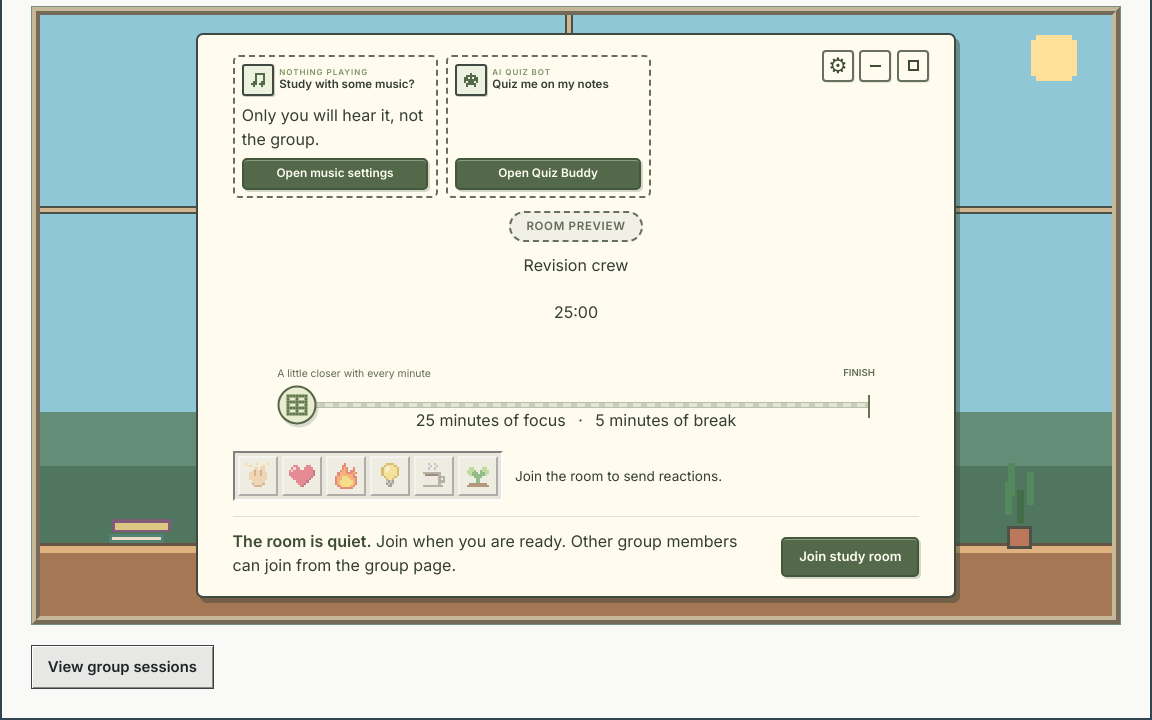
Test: private room screen › ordinary members cannot control the timer and leaving affects only this tab
(page scrolled)
Click the button "Join study room" at (850, 557), box 781,537 -> 920,577
(page scrolled)
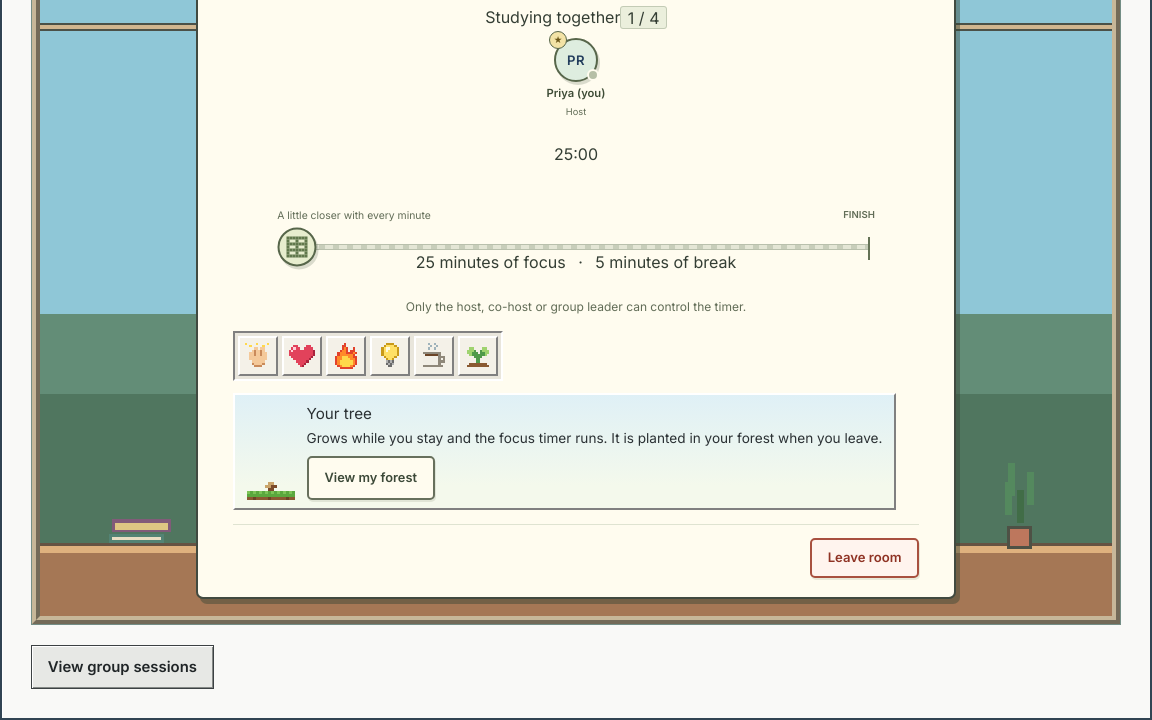
Expected: the button "Leave room" is shown
Click the button "Leave room" at (865, 558), box 810,538 -> 920,578
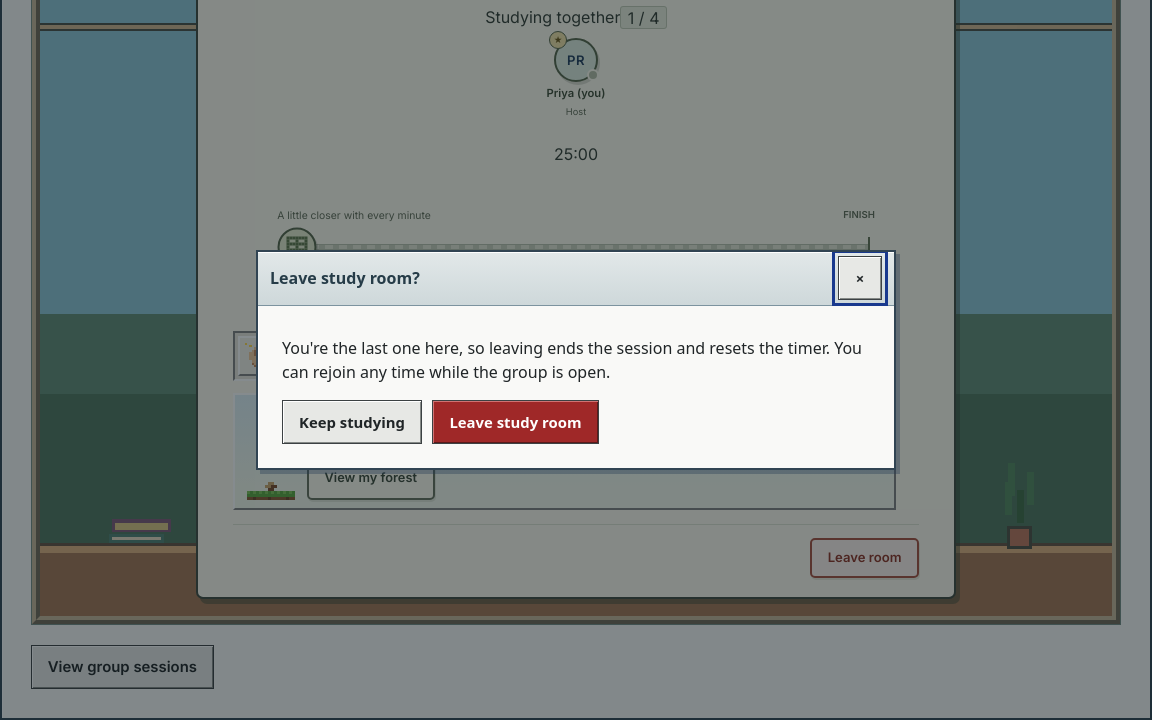
Click the button "Leave study room" at (516, 422), box 432,400 -> 599,444
(page scrolled)
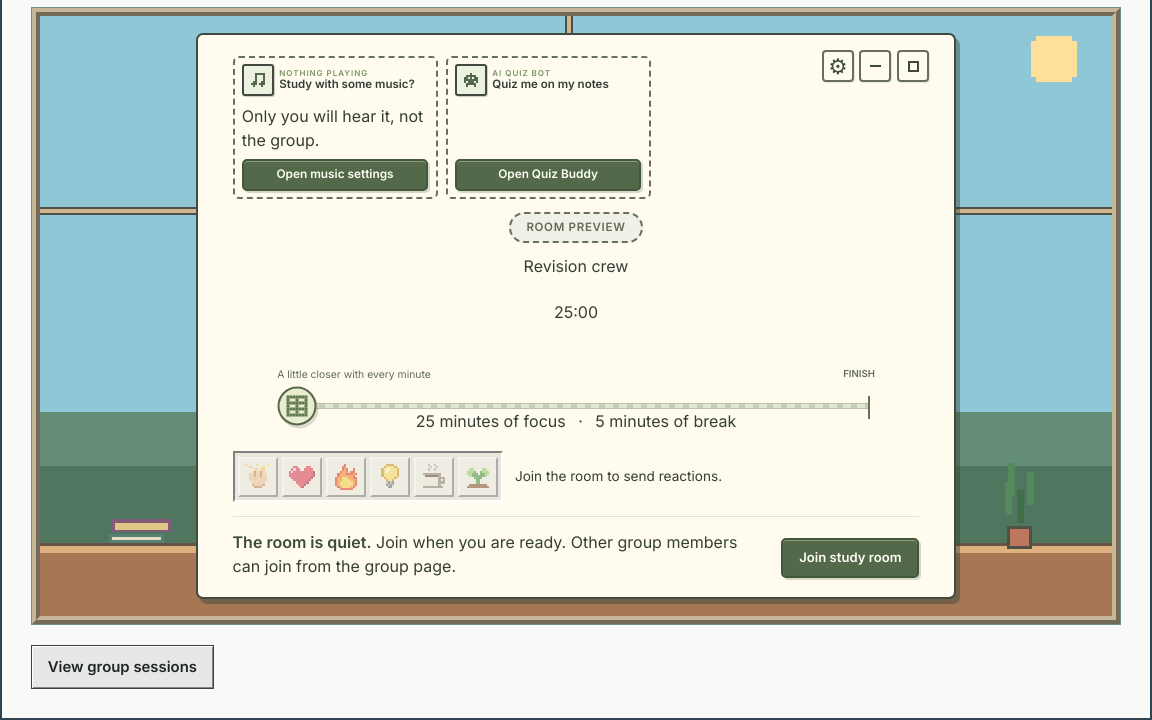
Expected: the button "Join study room" is shown, 781,538 -> 920,578
